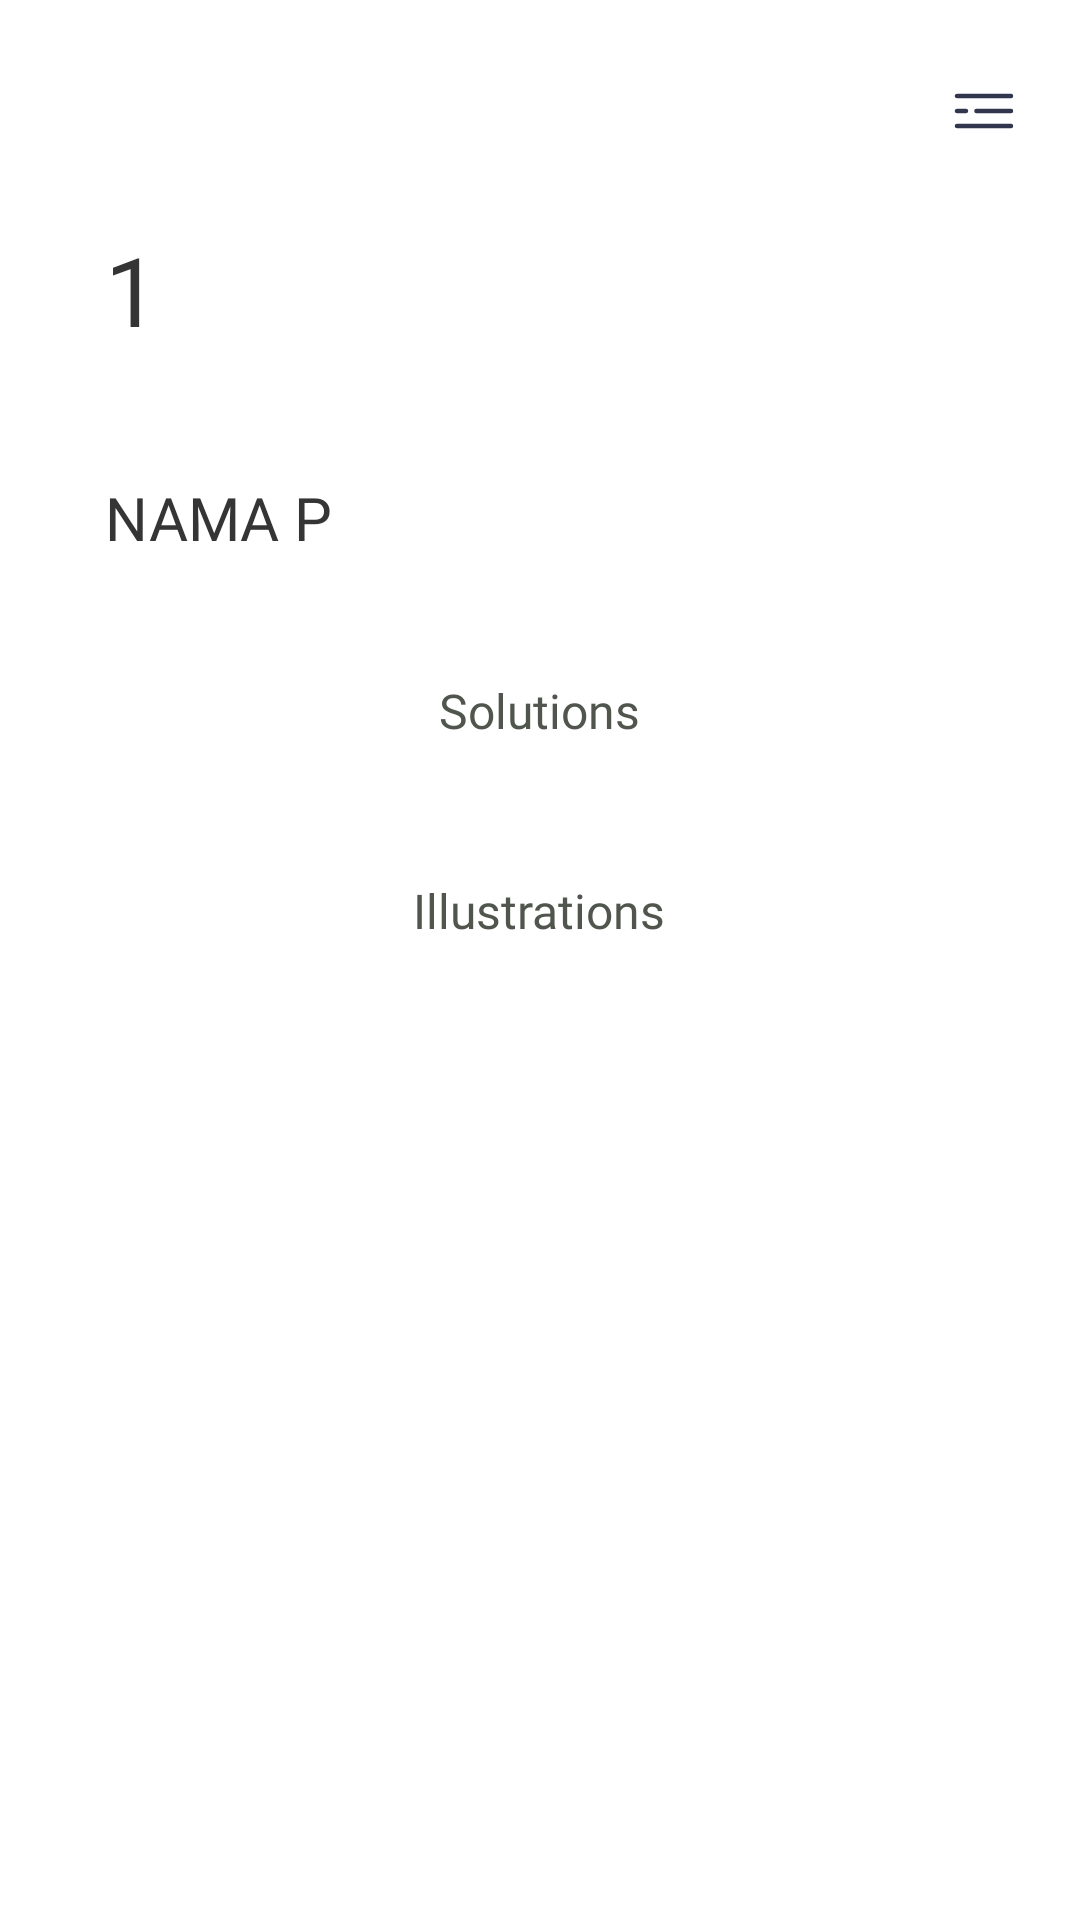

Where icons sit on this 1080x1920 app screen, as {"left": x1, "top": y1, "right": x2, "bottom": y2}:
hambergermenu: {"left": 954, "top": 93, "right": 1013, "bottom": 129}
